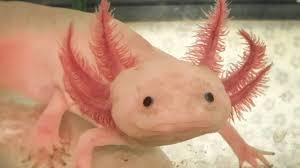Non_Gorille: (28, 0, 289, 168)
